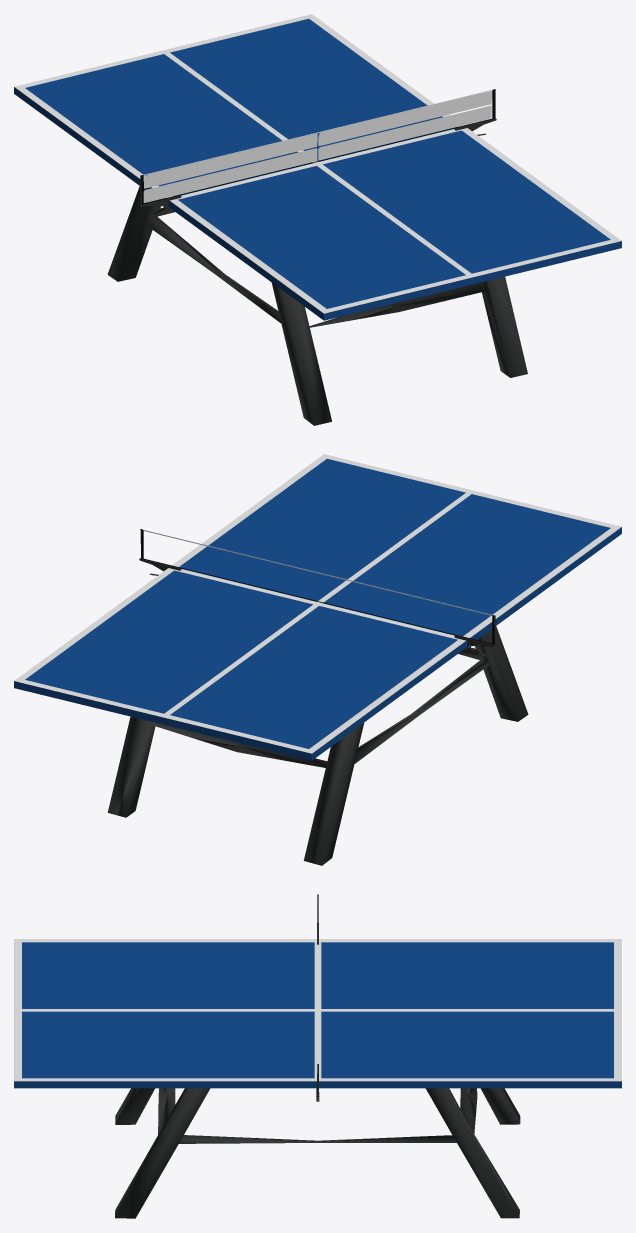
File: table-tennis.glb
3 views of the same model, one above another, from view 1: azimuth 30°, elevation 25°; view 2: azimuth 150°, elevation 25°; view 3: azimuth 270°, elevation 25° (orthographic).
Parts seen in each view (by area): view 1: Table_0, Legs_5, Net_3, NetBorder_4; view 2: Table_0, Legs_5, NetBorder_4; view 3: Table_0, Legs_5.
Part boxes in pixels (x1,y1,x2,y2): Table_0: (14,14,621,320); Legs_5: (107,186,527,425); Net_3: (143,91,492,202); NetBorder_4: (141,89,494,204); Table_0: (14,454,621,760); Legs_5: (107,626,528,865); NetBorder_4: (141,529,494,644); Table_0: (14,939,621,1088); Legs_5: (115,1088,520,1218).
Bounding box in the file's own units: 1.47 × 0.7596 × 2.22.
